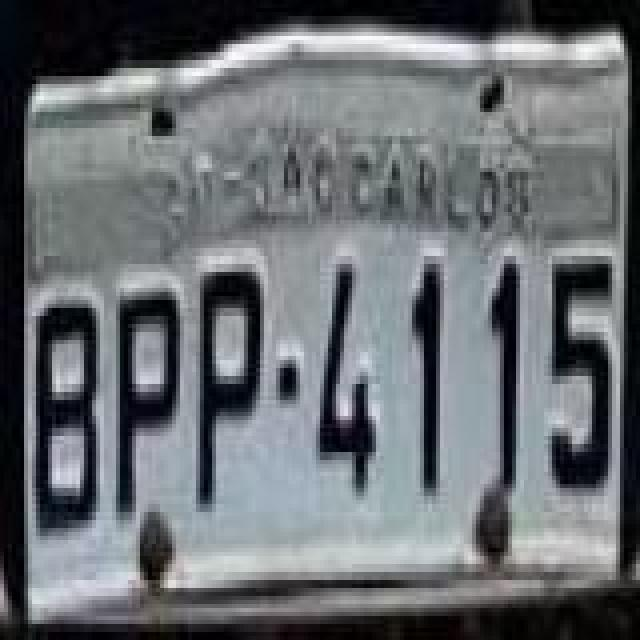1: (478, 252, 522, 500), (404, 252, 444, 508)
4: (316, 256, 380, 496)
5: (546, 252, 614, 500)
B: (30, 296, 98, 536)
P: (118, 282, 186, 518), (198, 270, 266, 506)
